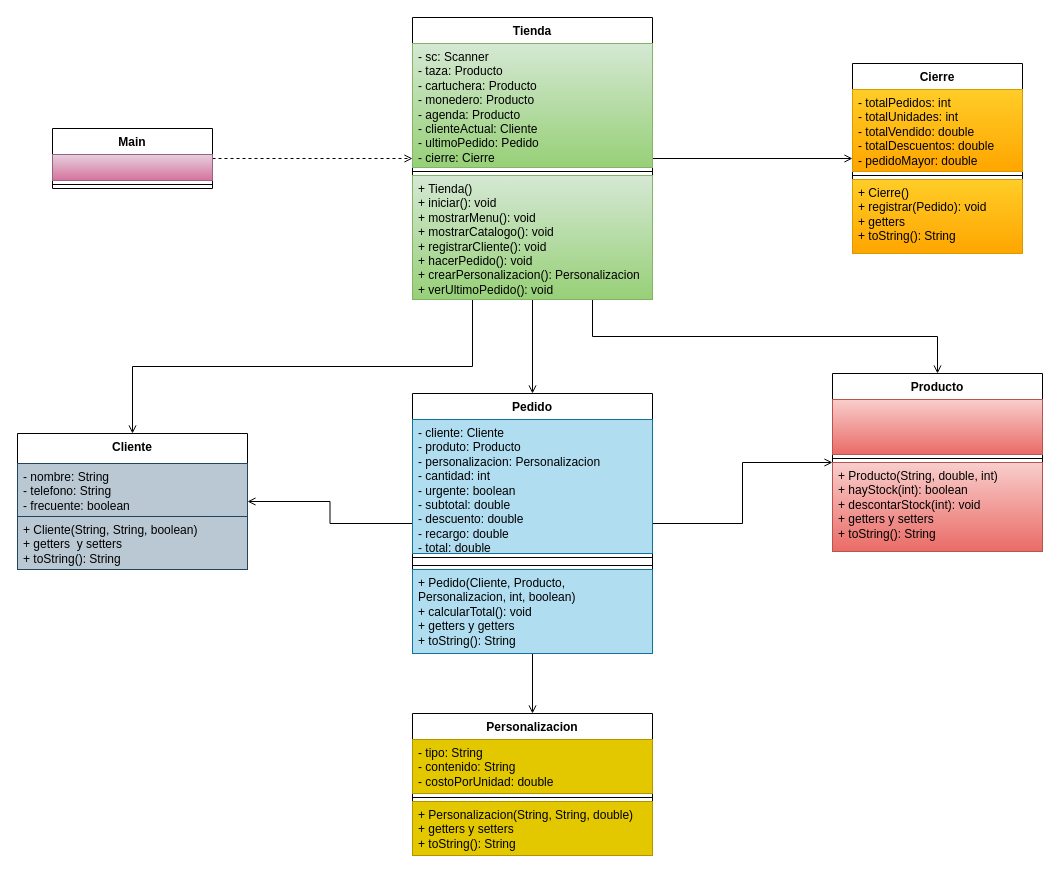
This 1060x876 diagram has some shape labels left out. Here are the shapes that lost their labels. From the top down, the centre of each, then its label:
At [132,167]: "+ main(String[]): void".
At [937,426]: "- nombre: String - precioBase: double - stock: int".
